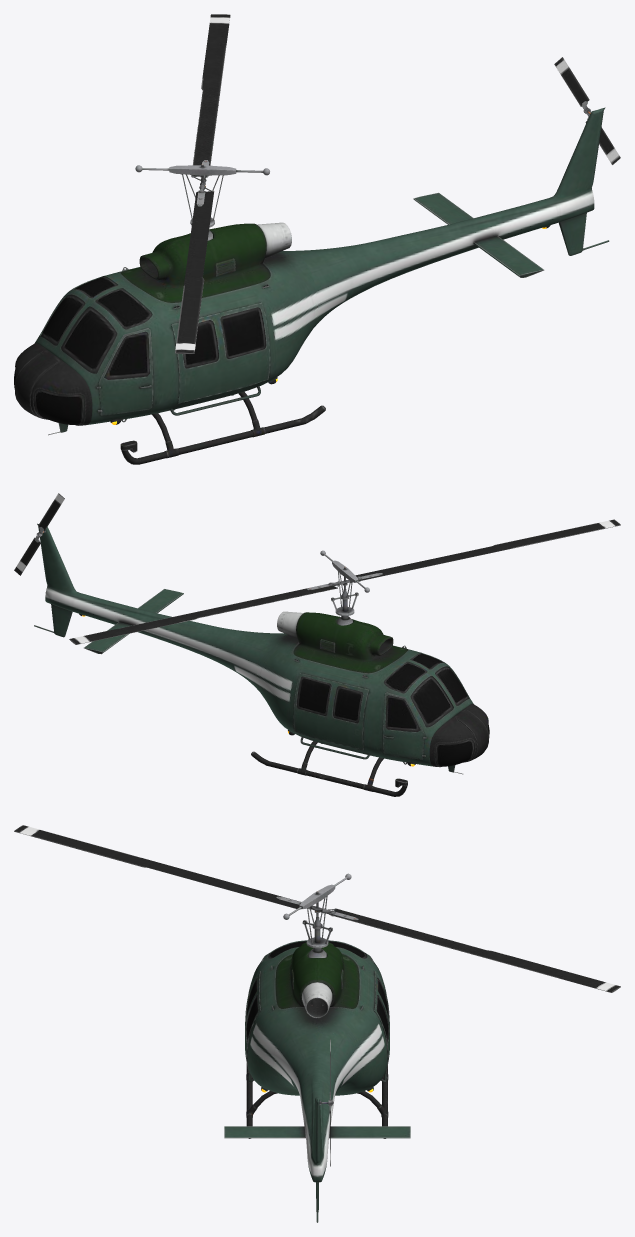
File: re-helico.glb
The picture shows the model from 3 angles, top to bottom: view 1: azimuth 30°, elevation 25°; view 2: azimuth 150°, elevation 25°; view 3: azimuth 270°, elevation 25°; orthographic projection. The views are drawn at different scales.
Parts seen in each view (by area): view 1: corps, rotor; view 2: corps, rotor; view 3: corps, rotor.
Boxes of the visible parts, <box> form: corps: <box>14,14,620,464</box>; rotor: <box>135,87,269,279</box>; corps: <box>14,493,620,796</box>; rotor: <box>188,545,501,619</box>; corps: <box>14,825,620,1222</box>; rotor: <box>143,860,491,957</box>.
Bounding box in the file's own units: 1224 × 491 × 1175.
Materials: 1 (1 with a texture image).
